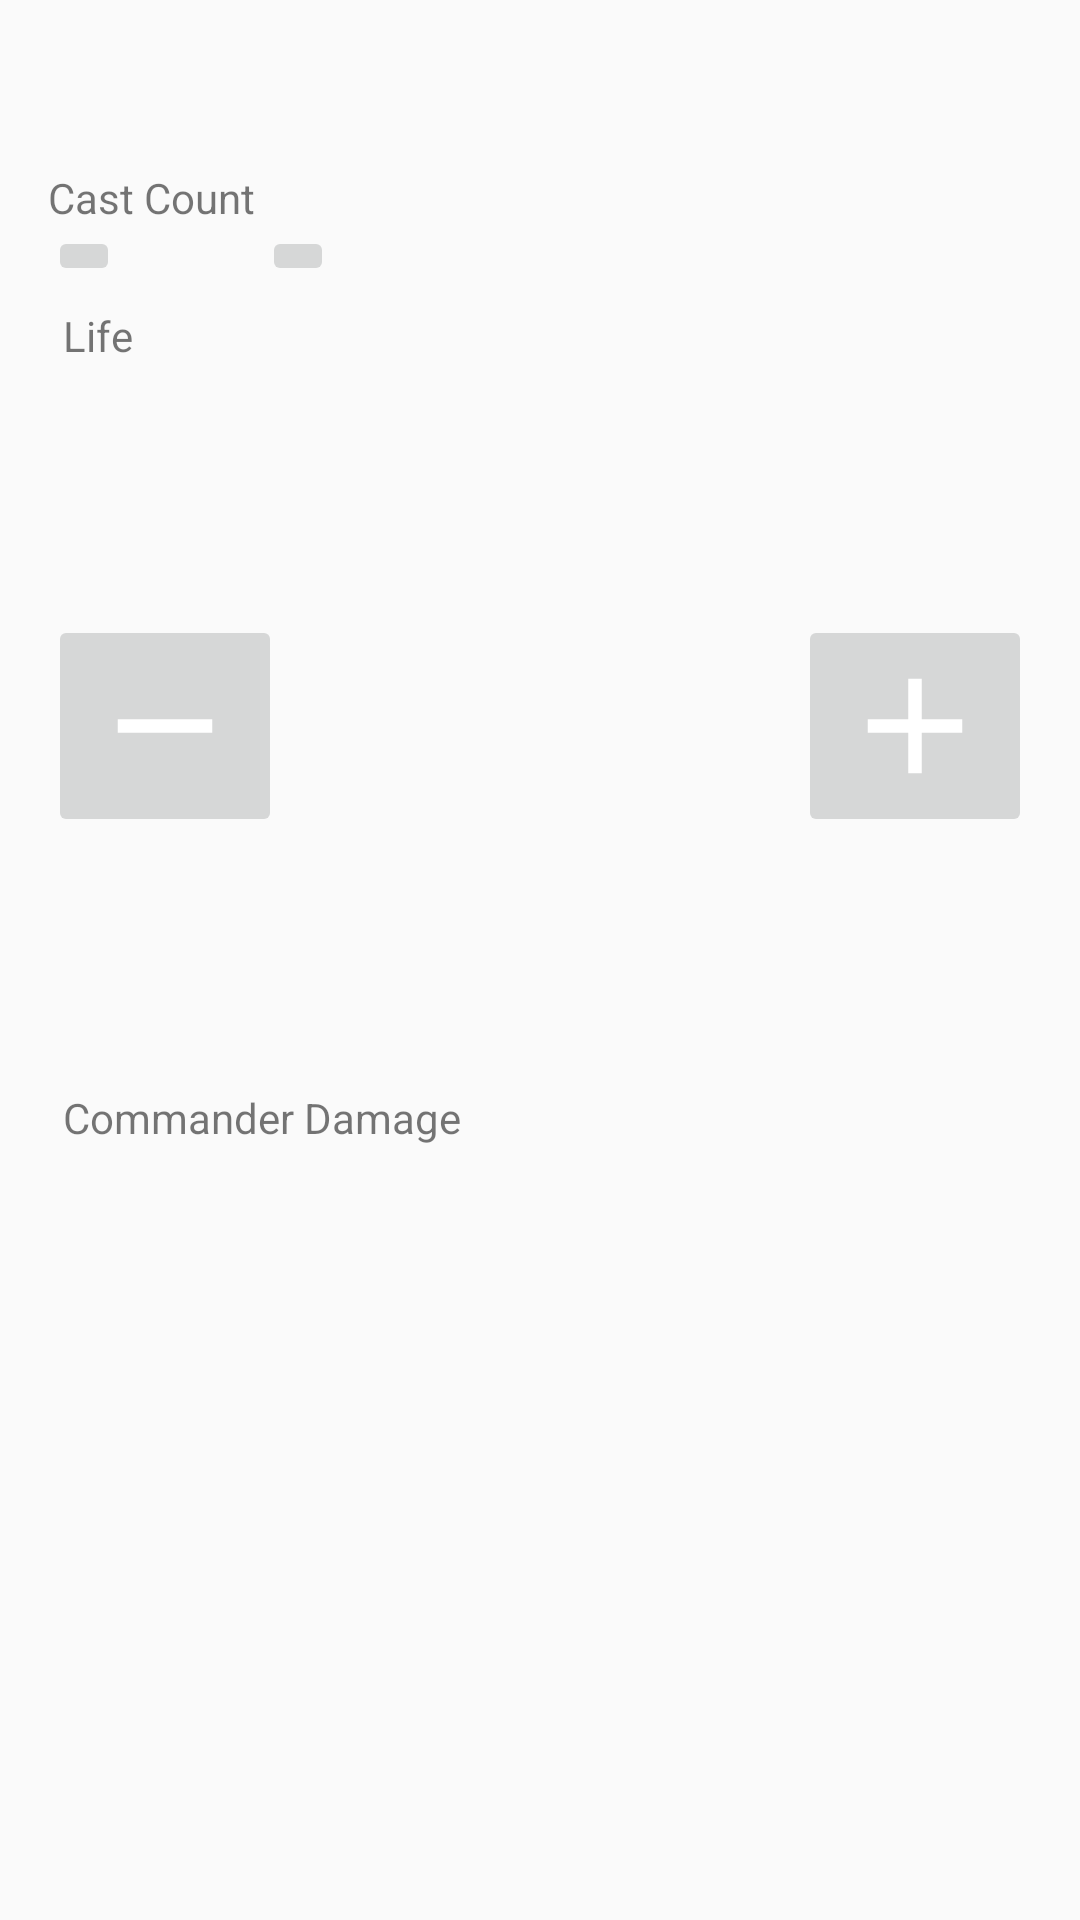

Icons on this 1080w x 1920h Android screen, each with the point to tap as point (x, y):
add: point (915, 726)
remove: point (165, 726)
